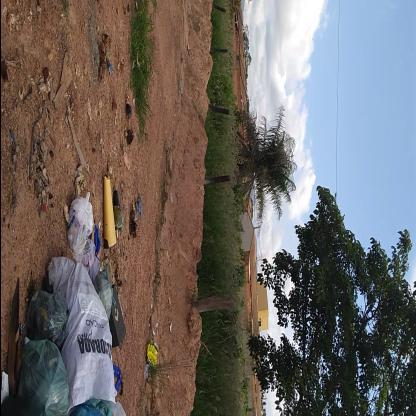lixo: (10, 175, 120, 415)
